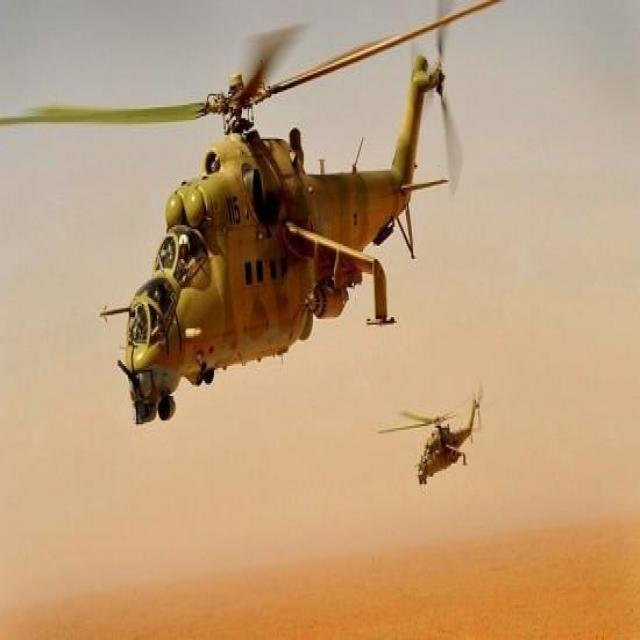MIL_HELO: (0, 0, 514, 426), (369, 381, 491, 486)
